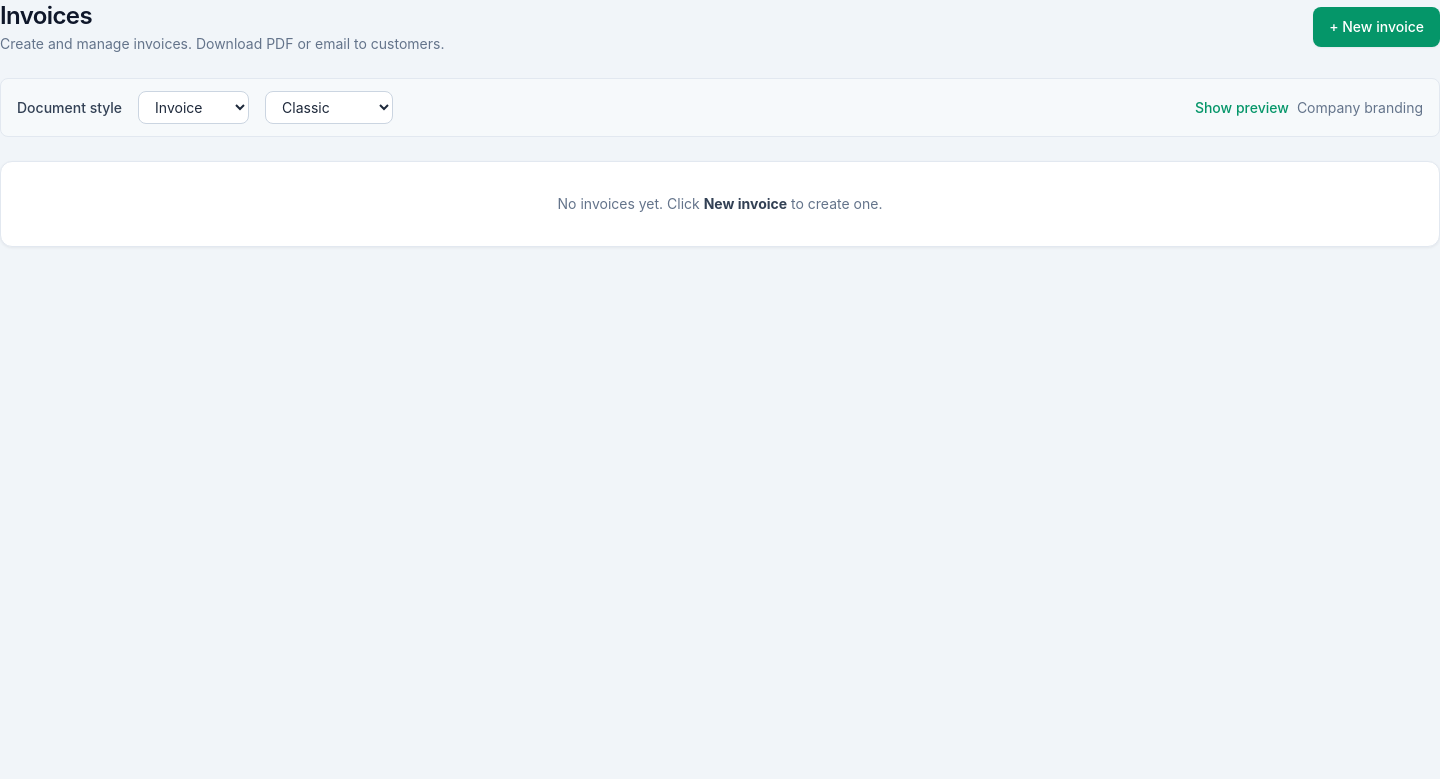
InvoicesPage › opens saved line items as a list instead of a cramped select
This screenshot has width=1440, height=779.
Expected: the text "No invoices yet. Click New invoice to create one." is shown, [558, 195, 882, 212]
Click the button "+ New invoice".
click(1377, 27)  # box [1313, 7, 1439, 47]
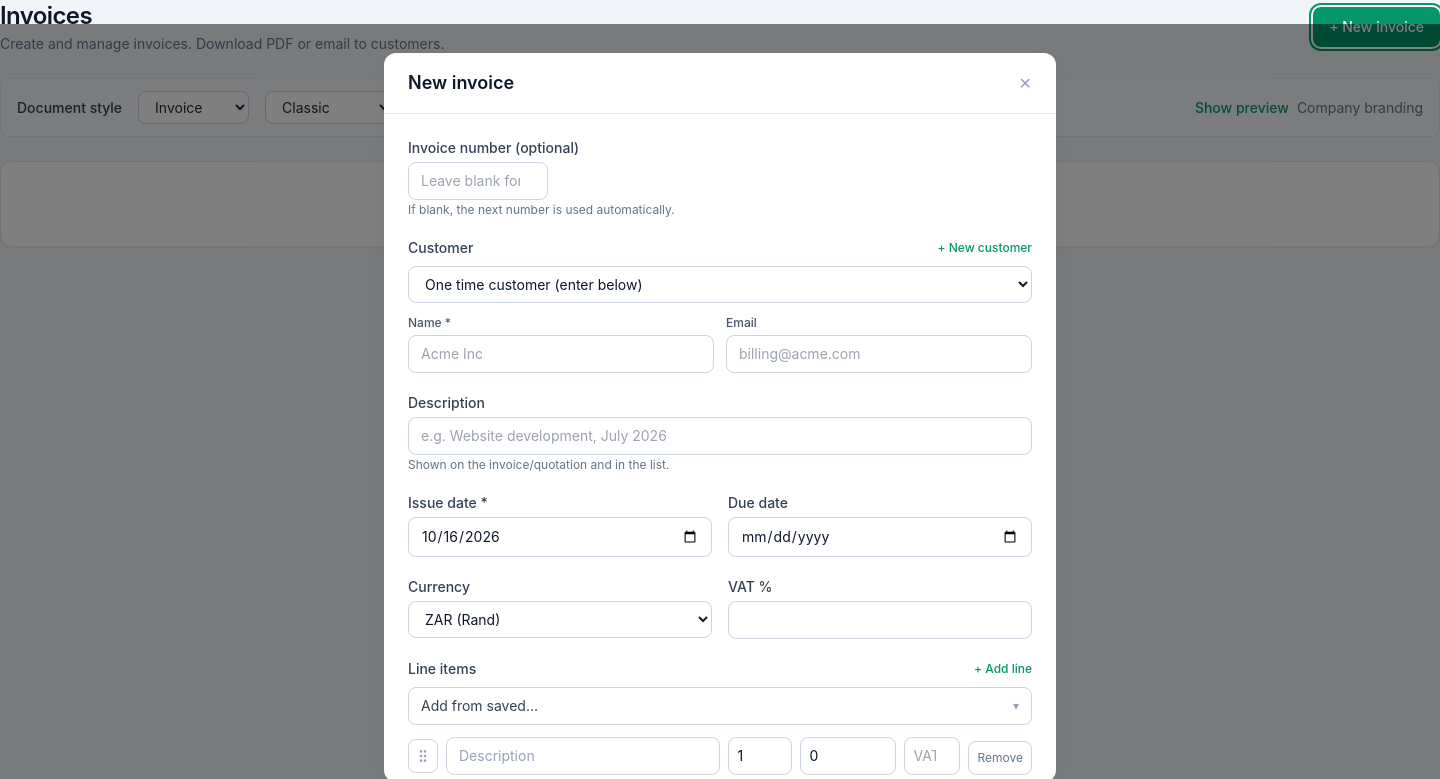
Click the button "Add from saved… ▾".
click(480, 705)  # box [408, 686, 1032, 724]
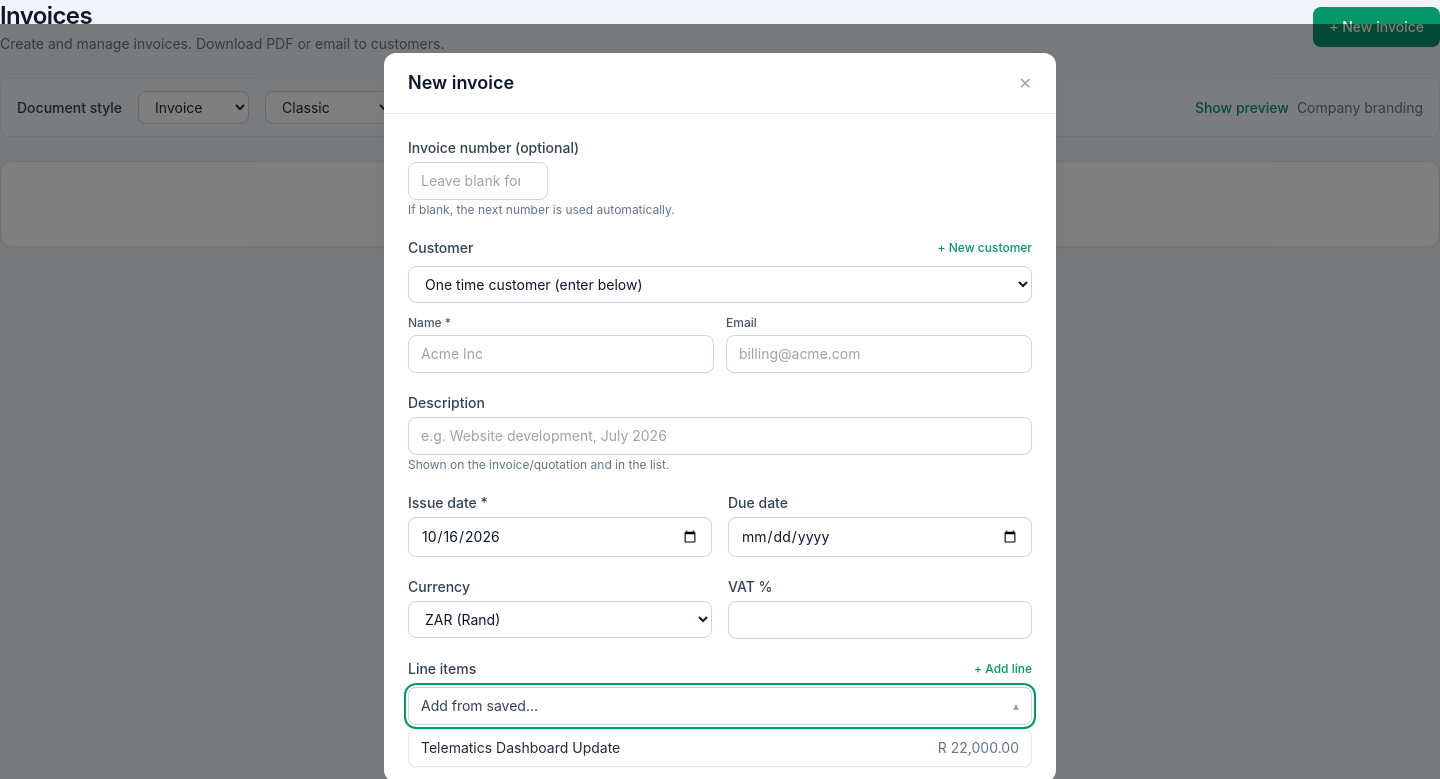
Now the option "Telematics Dashboard Update R 22,000.00" is shown, box [409, 730, 1031, 766]
